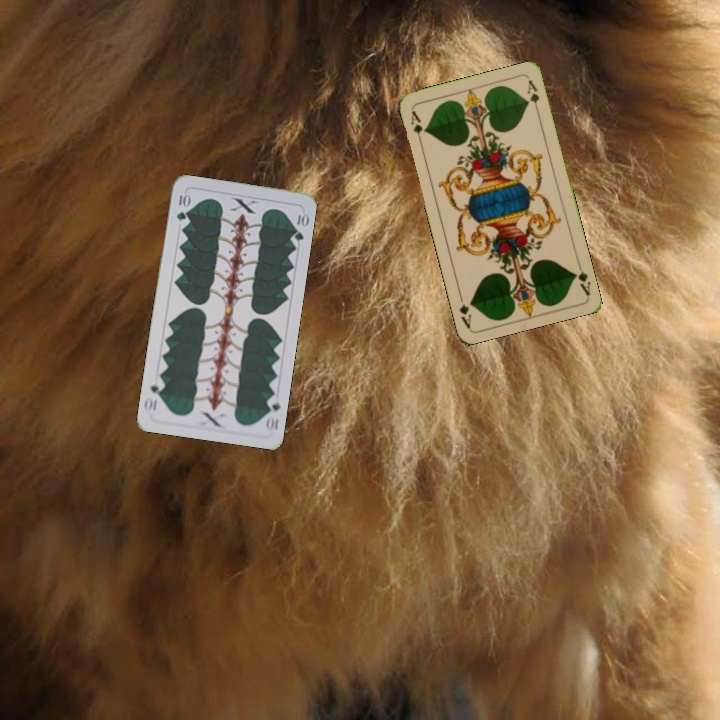G10: (262, 392, 283, 433), (172, 189, 192, 224)
GA: (569, 258, 593, 298), (406, 107, 428, 146)
